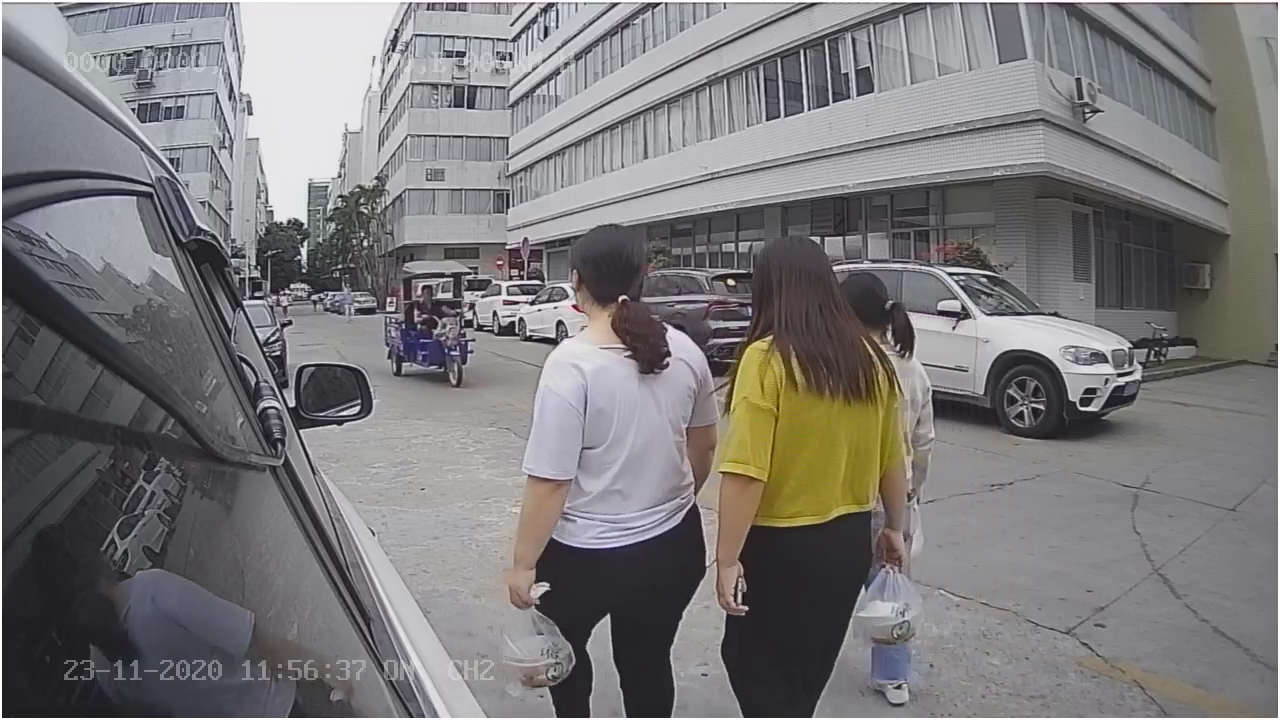person: (504, 220, 721, 717), (710, 231, 923, 713)
